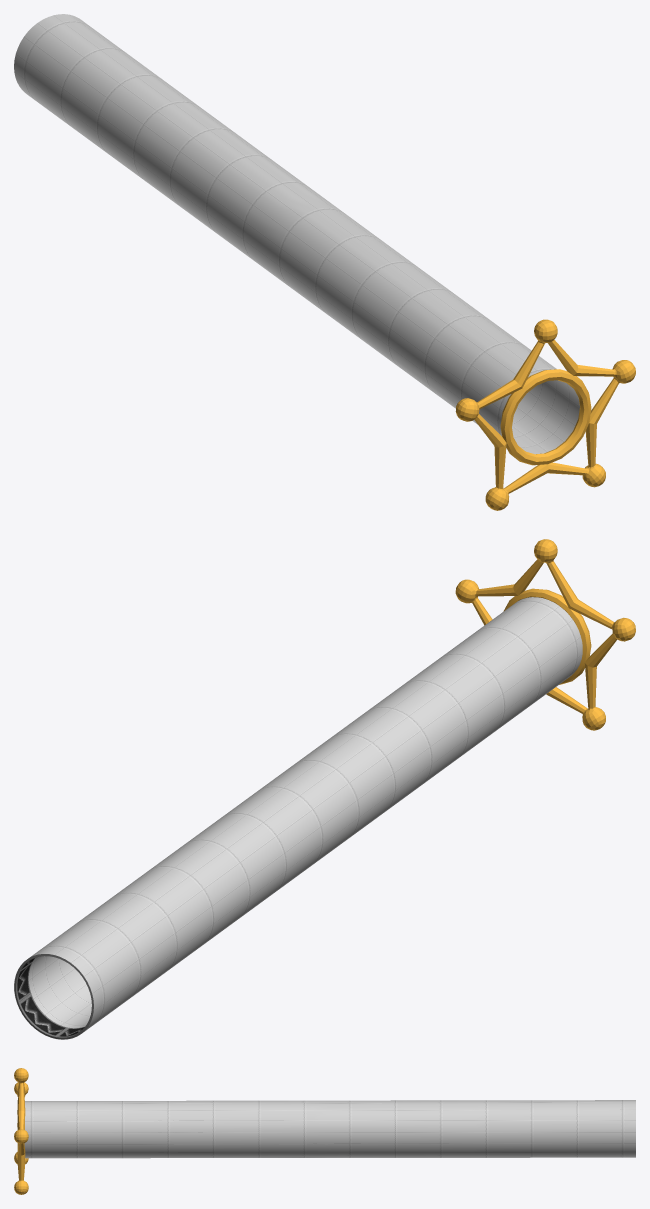
Rendered from PipeRotatingDash3dsrr_Prefab.fbx.
3 views of the same model, one above another, from view 1: azimuth 30°, elevation 25°; view 2: azimuth 150°, elevation 25°; view 3: azimuth 270°, elevation 25° (orthographic). The views are drawn at different scales.
Visible parts, largest first — view 1: PipeRotatingDash3dsrr_naka1, Frame00, PipeRotatingDash3dsrr_naka, Frame01; view 2: PipeRotatingDash3dsrr_naka1, Frame00, PipeRotatingDash3dsrr_naka, Frame01, PipeRotatingDash3dsrr_glide; view 3: PipeRotatingDash3dsrr_naka1, Frame00.
Boxes of the visible parts, x1=… form: PipeRotatingDash3dsrr_naka1: x1=14, y1=14, x2=556, y2=435; Frame00: x1=455, y1=319, x2=635, y2=510; PipeRotatingDash3dsrr_naka: x1=512, y1=380, x2=579, y2=454; Frame01: x1=500, y1=369, x2=591, y2=465; PipeRotatingDash3dsrr_naka1: x1=14, y1=597, x2=582, y2=1039; Frame00: x1=455, y1=539, x2=635, y2=730; PipeRotatingDash3dsrr_naka: x1=28, y1=956, x2=91, y2=1028; Frame01: x1=503, y1=588, x2=591, y2=684; PipeRotatingDash3dsrr_glide: x1=14, y1=954, x2=93, y2=1039; PipeRotatingDash3dsrr_naka1: x1=24, y1=1100, x2=635, y2=1158; Frame00: x1=14, y1=1068, x2=28, y2=1194.
Size of what is drawn, in the model's own units: 49.98 by 47.83 by 243.
